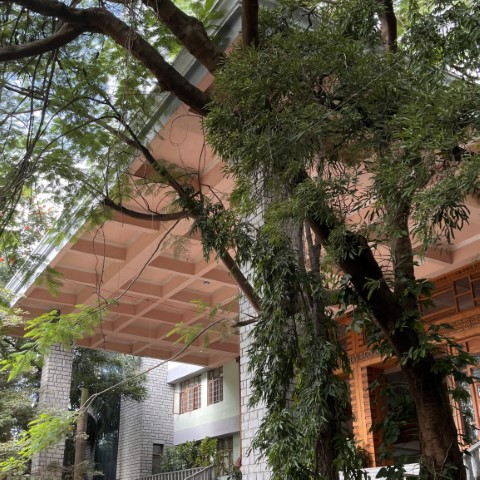Central Block: (1, 118, 467, 475)
